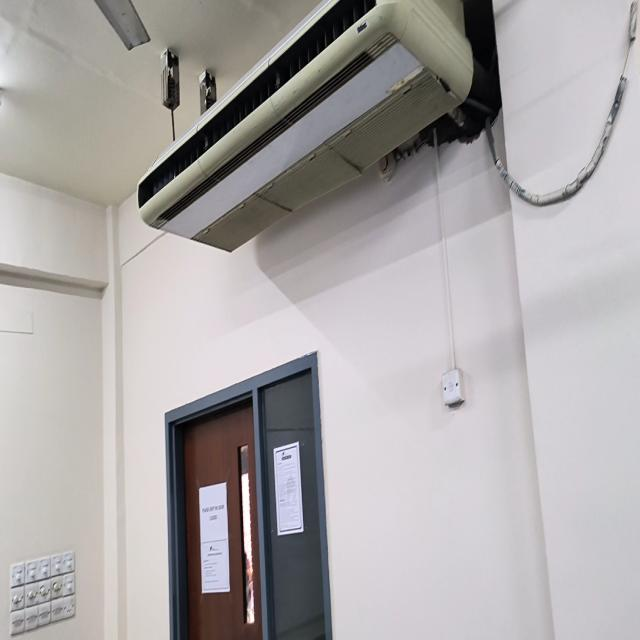Ac: (138, 0, 472, 250)
